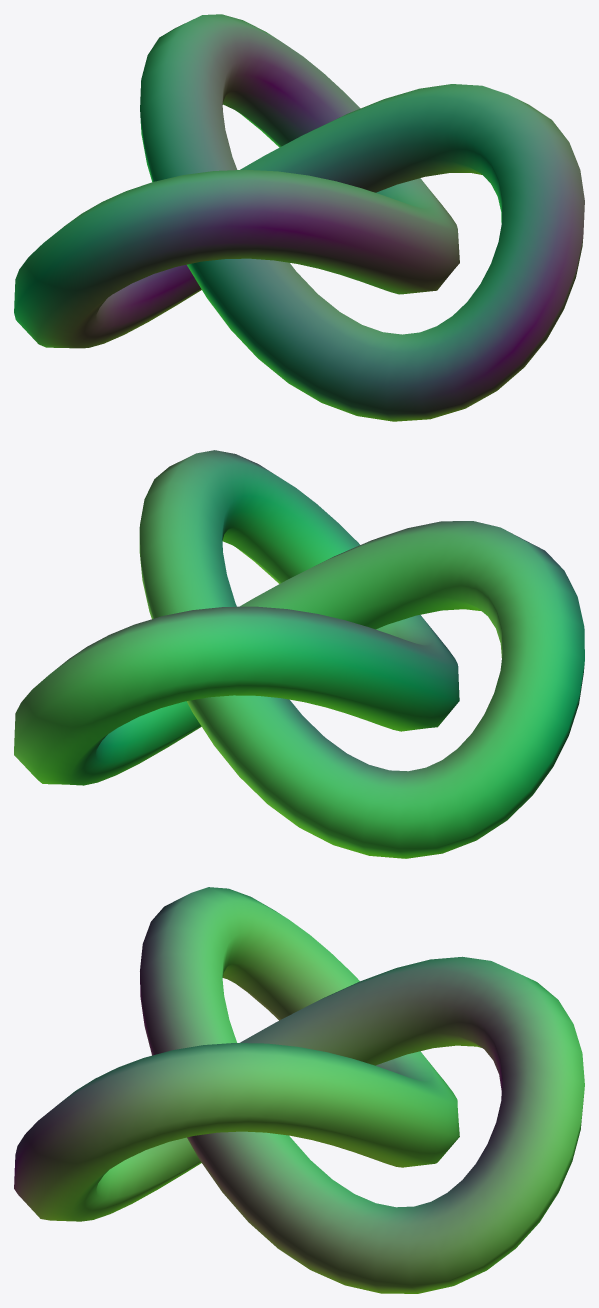
File: TorusKnot.fbx
3 renders of one model, top to bottom at view 1: azimuth 30°, elevation 25°; view 2: azimuth 150°, elevation 25°; view 3: azimuth 270°, elevation 25°, orthographic.
Parts seen in each view (by area): view 1: TorusKnot; view 2: TorusKnot; view 3: TorusKnot.
Boxes of the visible parts, x1,y1,x2,y2 form: TorusKnot: (14,14,584,421); TorusKnot: (14,450,584,858); TorusKnot: (14,887,584,1293).
Size of the model in its own units: 604 by 296 by 641.
